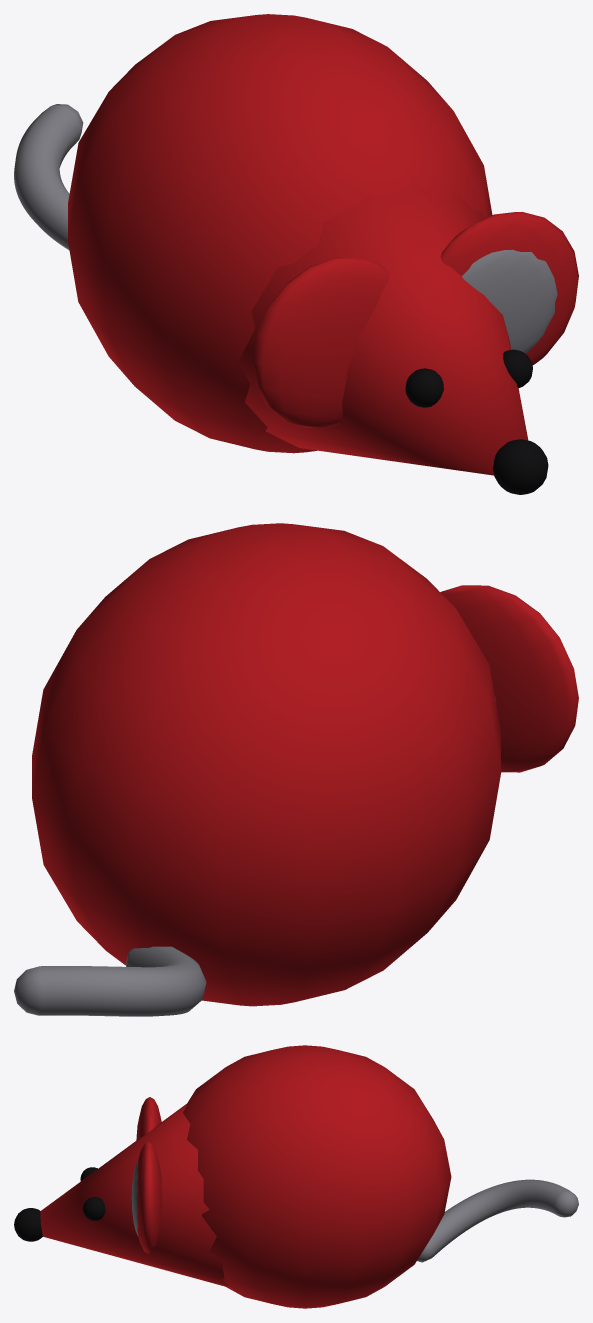
The model's file is mouse.glb.
The picture shows the model from 3 angles, top to bottom: view 1: azimuth 30°, elevation 25°; view 2: azimuth 150°, elevation 25°; view 3: azimuth 270°, elevation 25°; orthographic projection. The views are drawn at different scales.
Visible parts, largest first — view 1: mouse, mouse.001, mouse.006, mouse.008, tail, mouse.009, mouse.002, mouse.003, mouse.004; view 2: mouse, mouse.006, tail; view 3: mouse, mouse.001, tail, mouse.008, mouse.002, mouse.006, mouse.004, mouse.009.
Part boxes in pixels (box(x1,y1,x2,y2)): mouse: box(68, 14, 492, 453); mouse.001: box(237, 185, 528, 475); mouse.006: box(252, 257, 389, 427); mouse.008: box(440, 212, 578, 364); tail: box(14, 104, 83, 249); mouse.009: box(462, 249, 557, 353); mouse.002: box(493, 439, 548, 494); mouse.003: box(405, 368, 443, 407); mouse.004: box(503, 349, 532, 388); mouse: box(32, 523, 501, 1006); mouse.006: box(440, 585, 578, 772); tail: box(14, 946, 206, 1016); mouse: box(183, 1045, 451, 1308); mouse.001: box(40, 1103, 228, 1286); tail: box(417, 1179, 578, 1262); mouse.008: box(137, 1142, 162, 1253); mouse.002: box(14, 1208, 42, 1241); mouse.006: box(136, 1097, 161, 1140); mouse.004: box(83, 1197, 105, 1220); mouse.009: box(131, 1159, 138, 1236).
Size of the model in its own units: 0.2 by 0.21 by 0.4444.
